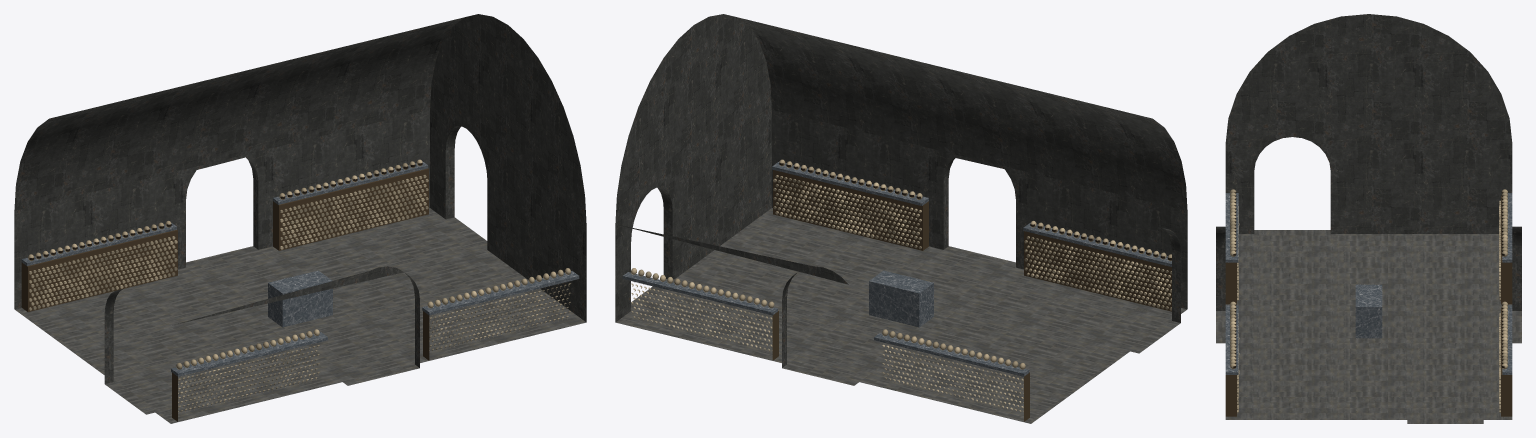
File: ossuary-hall.gltf
3 views of the same model, side by side, from view 1: azimuth 30°, elevation 25°; view 2: azimuth 150°, elevation 25°; view 3: azimuth 270°, elevation 25° (orthographic). The views are drawn at different scales.
Parts seen in each view (by area): view 1: ossuary-hall-mesh, ossuary-hall-bones; view 2: ossuary-hall-mesh, ossuary-hall-bones; view 3: ossuary-hall-mesh, ossuary-hall-bones.
Boxes of the visible parts, x1=… form: ossuary-hall-mesh: x1=14, y1=14, x2=586, y2=423; ossuary-hall-bones: x1=21, y1=159, x2=579, y2=421; ossuary-hall-mesh: x1=615, y1=14, x2=1187, y2=423; ossuary-hall-bones: x1=622, y1=159, x2=1171, y2=421; ossuary-hall-mesh: x1=1216, y1=14, x2=1521, y2=423; ossuary-hall-bones: x1=1225, y1=189, x2=1512, y2=416.
Bounding box in the file's own units: 12 × 6.35 × 8.
Materials: 4 (3 with a texture image).
